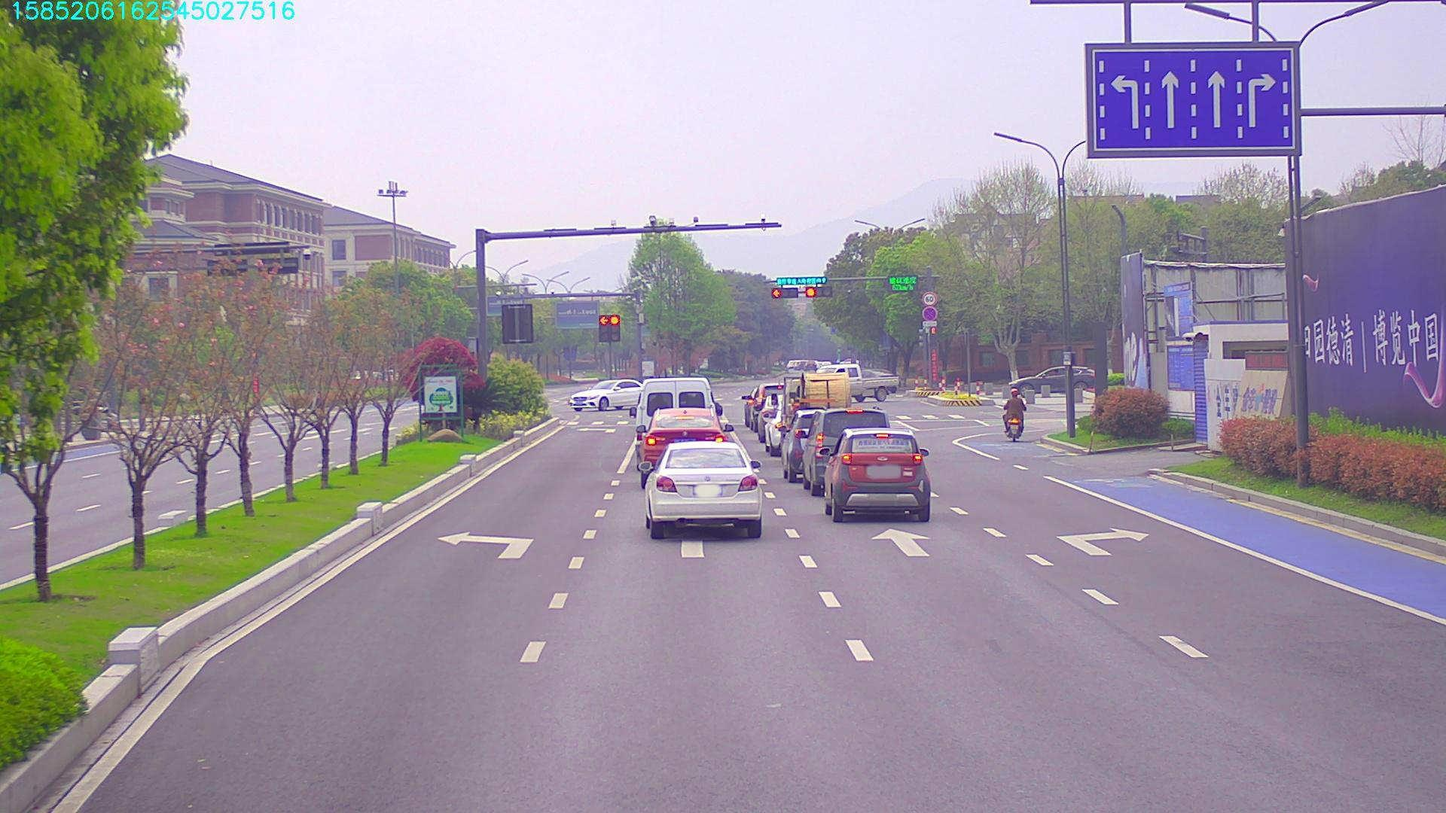red: (766, 285, 792, 301), (804, 284, 832, 297)
wait_on: (776, 276, 826, 282)
